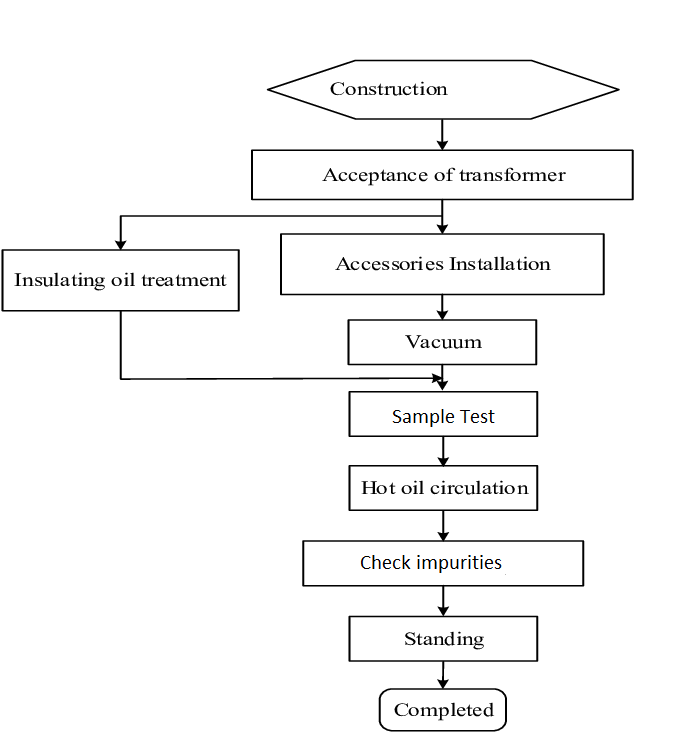arrow: (115, 309, 441, 381), (112, 212, 442, 245), (433, 197, 449, 234), (434, 431, 449, 465), (434, 583, 450, 614), (434, 660, 449, 690), (432, 294, 449, 319), (436, 117, 448, 152), (436, 511, 450, 540), (436, 364, 448, 392)
process: (264, 55, 622, 122), (247, 145, 638, 203), (277, 231, 608, 298), (1, 246, 244, 315), (299, 538, 589, 589), (344, 315, 541, 369), (342, 387, 542, 440), (345, 612, 542, 665), (344, 463, 542, 515), (375, 684, 512, 736)
text: (319, 163, 567, 188), (11, 269, 229, 292), (334, 254, 553, 276), (359, 477, 530, 498), (356, 552, 505, 575), (328, 76, 449, 101), (392, 698, 497, 722), (386, 405, 497, 427), (400, 629, 489, 650), (403, 329, 483, 352)
